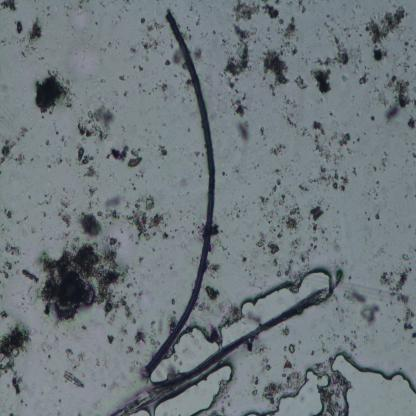Air bubble: (148, 269, 332, 383), (332, 349, 416, 415), (150, 362, 234, 414), (250, 369, 332, 415)
Background material: (39, 236, 130, 326), (308, 118, 352, 191), (378, 267, 416, 342), (365, 3, 409, 63), (260, 179, 304, 237), (220, 24, 260, 87), (124, 190, 171, 241), (283, 223, 324, 274), (35, 68, 74, 121), (374, 74, 411, 122), (318, 0, 364, 38), (312, 35, 359, 72), (340, 285, 382, 326), (0, 320, 32, 371), (76, 104, 116, 144), (262, 372, 304, 406), (221, 147, 254, 189), (261, 47, 291, 93), (0, 127, 30, 170), (139, 14, 167, 55), (107, 142, 143, 172), (278, 15, 302, 54), (77, 22, 107, 53), (36, 328, 62, 360), (196, 282, 219, 315), (76, 209, 104, 236), (44, 150, 80, 171), (114, 0, 140, 29), (99, 195, 124, 225), (0, 242, 20, 279), (135, 76, 168, 98), (309, 66, 334, 95), (270, 154, 300, 178), (24, 20, 44, 56), (256, 236, 278, 267), (328, 290, 348, 324), (57, 196, 77, 230), (168, 191, 192, 219), (165, 44, 186, 76), (14, 284, 38, 311), (35, 189, 58, 217), (232, 1, 260, 23), (358, 177, 379, 205), (176, 74, 193, 108), (79, 146, 96, 179), (332, 261, 351, 290), (170, 222, 189, 251), (186, 0, 205, 28), (225, 196, 247, 220), (123, 340, 142, 367), (230, 96, 252, 119), (81, 71, 109, 89), (52, 121, 70, 148), (40, 362, 60, 386), (130, 124, 152, 145), (191, 146, 205, 179), (16, 216, 38, 236), (235, 119, 252, 144), (47, 390, 63, 416), (404, 135, 416, 168), (281, 95, 298, 118), (11, 374, 27, 398), (342, 330, 358, 354), (262, 1, 282, 20), (128, 169, 146, 190), (131, 253, 145, 280), (244, 264, 259, 289), (173, 142, 190, 164), (131, 47, 145, 73), (0, 33, 27, 46), (380, 143, 391, 174), (315, 331, 329, 355), (374, 122, 396, 137), (0, 83, 13, 108), (100, 0, 118, 18), (367, 244, 386, 261), (148, 318, 158, 350), (84, 183, 96, 209), (246, 338, 262, 357), (0, 396, 15, 416), (315, 196, 336, 210), (74, 0, 92, 16), (132, 326, 148, 344), (64, 346, 76, 370), (164, 175, 186, 188), (60, 0, 75, 18), (310, 203, 324, 222), (259, 123, 270, 147), (298, 125, 314, 141), (327, 327, 342, 344), (190, 217, 204, 235), (357, 70, 372, 86), (22, 268, 38, 283), (0, 202, 14, 219), (271, 141, 285, 158), (280, 322, 294, 338), (293, 76, 309, 90), (104, 165, 117, 182), (76, 349, 87, 369), (118, 324, 129, 344), (257, 358, 272, 372), (0, 1, 19, 12), (312, 95, 328, 108), (331, 241, 348, 253), (404, 175, 412, 200), (221, 242, 232, 260), (185, 253, 199, 267), (238, 230, 252, 244), (203, 26, 218, 39), (96, 356, 109, 371), (358, 232, 374, 244), (118, 123, 130, 139), (158, 142, 168, 160), (237, 250, 248, 266), (0, 224, 11, 240), (183, 25, 194, 41), (331, 218, 341, 235), (313, 360, 330, 370), (15, 20, 26, 35), (320, 225, 330, 241), (400, 252, 412, 265), (367, 162, 378, 176), (350, 165, 359, 181), (363, 334, 376, 345), (63, 184, 76, 195), (305, 347, 318, 358), (393, 159, 404, 172), (286, 116, 297, 129), (286, 343, 296, 357), (405, 116, 416, 128), (154, 128, 165, 140), (106, 39, 118, 50), (362, 210, 373, 221), (193, 51, 204, 62), (144, 141, 154, 153), (106, 331, 114, 345), (167, 297, 178, 307), (298, 0, 306, 13), (23, 109, 33, 119), (42, 138, 52, 148), (79, 321, 88, 332), (101, 381, 109, 393), (409, 332, 416, 345), (19, 50, 26, 63), (113, 90, 128, 96), (19, 398, 28, 408), (354, 132, 362, 143), (374, 211, 382, 221), (0, 308, 8, 318), (270, 82, 275, 98), (250, 388, 258, 397), (80, 52, 86, 64), (407, 245, 416, 252), (326, 112, 335, 119), (56, 44, 65, 51), (0, 278, 6, 288), (346, 272, 352, 282), (166, 264, 174, 271), (390, 180, 396, 189), (129, 106, 135, 115), (356, 110, 362, 118), (370, 113, 376, 121), (341, 74, 347, 82), (150, 244, 156, 252), (186, 124, 191, 133), (119, 73, 124, 81), (5, 382, 10, 390), (394, 222, 400, 228), (351, 216, 357, 221), (408, 223, 412, 230), (298, 340, 302, 346), (0, 295, 4, 300), (155, 176, 159, 180), (337, 208, 339, 214), (158, 165, 160, 170), (414, 193, 416, 198), (353, 141, 355, 145)
Cellulose filter fibre: (116, 285, 331, 414)
Diatom: (61, 370, 84, 390)
Microfibre: (144, 12, 218, 375)
